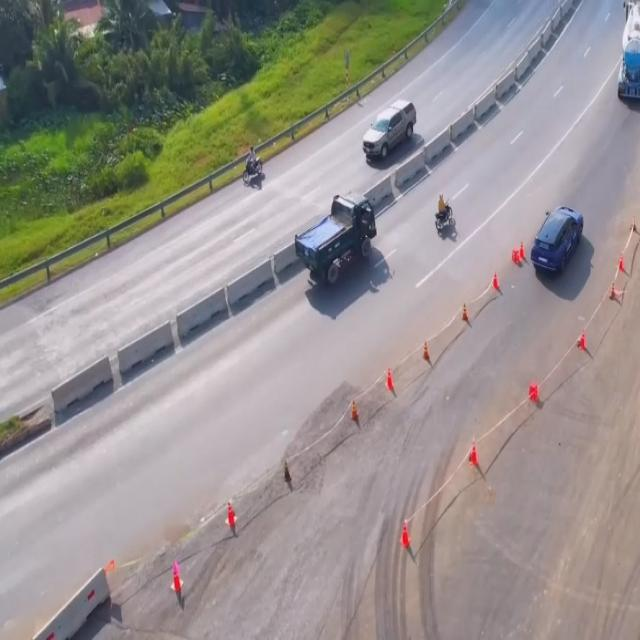car: (362, 98, 422, 166), (531, 209, 584, 283)
motorbike: (242, 146, 265, 189), (433, 192, 455, 232)
truck: (294, 189, 374, 291), (620, 0, 640, 106)
